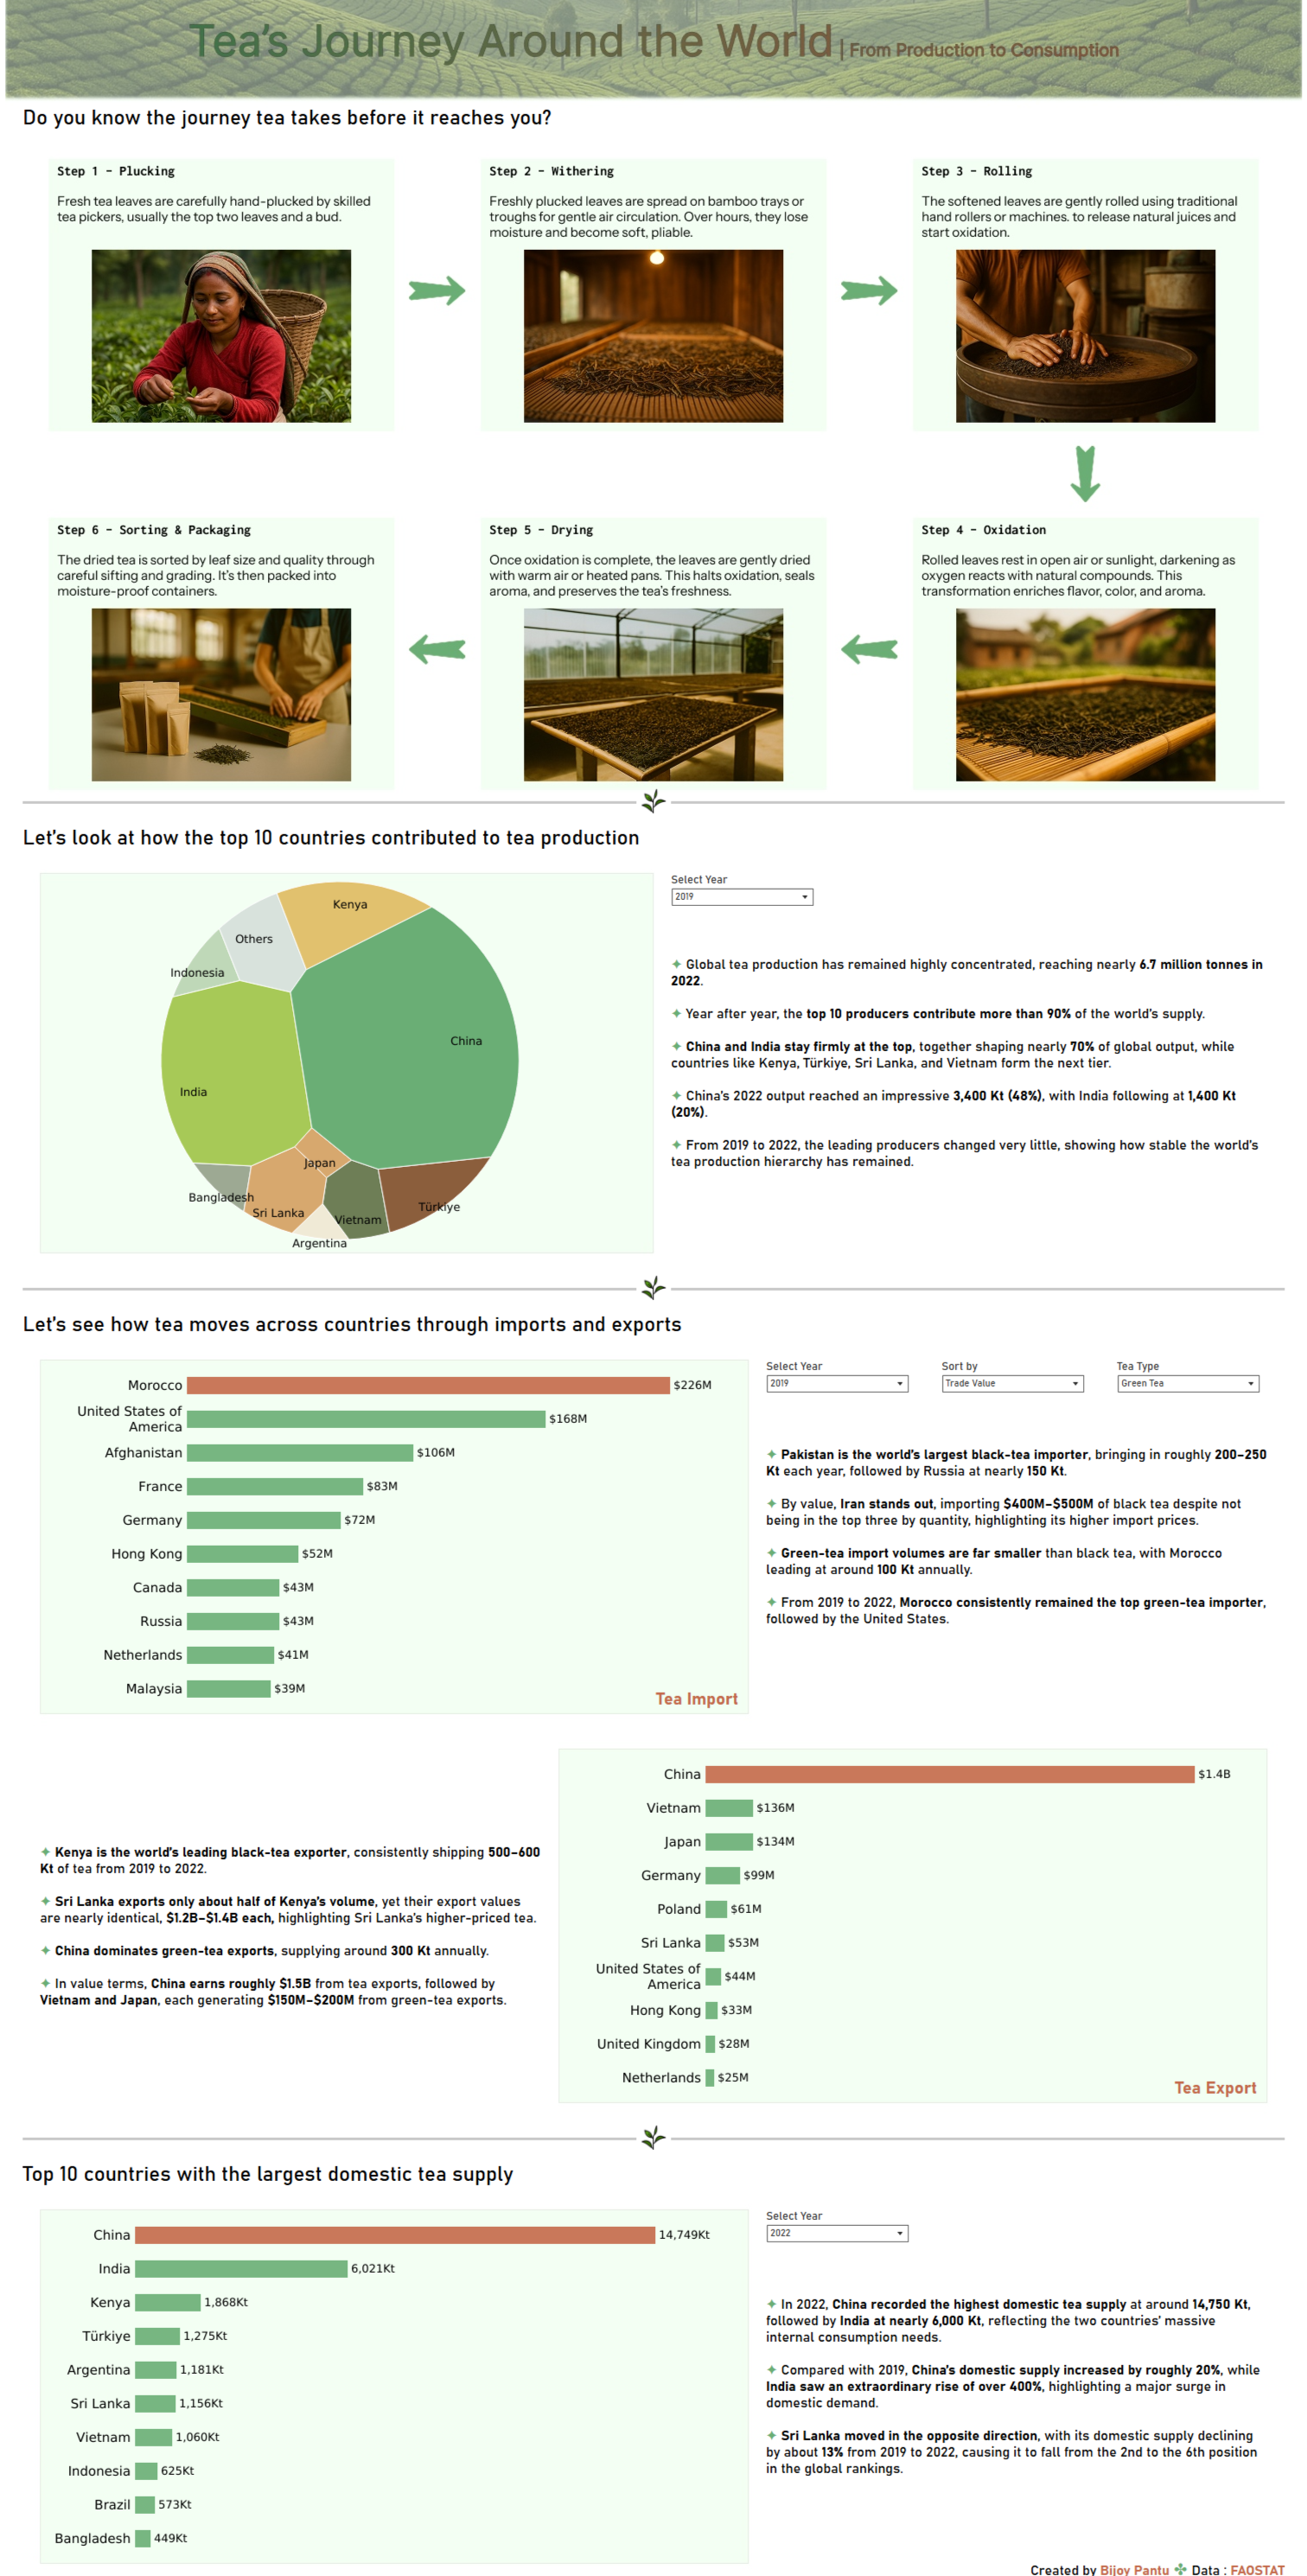

The page's visual inventory and layout, read from the dashboard file:
{"tool":"tableau","page":{"name":"tea's journey","canvas":[1500,3000],"ordinal":0},"visuals":[{"type":"image","param":"Image/Background.png","box":[0,0,1500,3000]},{"type":"blank","box":[20,0,1460,100]},{"type":"text","box":[20,110,1460,50]},{"type":"blank","box":[20,160,487,375]},{"type":"blank","box":[507,160,487,375]},{"type":"blank","box":[994,160,486,375]},{"type":"blank","box":[20,535,487,375]},{"type":"blank","box":[507,535,487,375]},{"type":"blank","box":[994,535,486,375]},{"type":"image","param":"Image/tea_leaf.png","box":[735,915,30,30]},{"type":"blank","box":[20,930,730,3]},{"type":"blank","box":[750,930,730,3]},{"type":"text","box":[20,953,1460,40]},{"type":"worksheet","title":"Production Vornoi","mark":"Automatic","box":[20,993,750,480]},{"type":"blank","box":[770,993,710,480]},{"type":"filter","title":"Production Vornoi","param":"[federated.12dqtg81vs3vxj0zk7q770y39avz].[none:year (production_vornoi.csv):ok]","box":[770,1013,166,45]},{"type":"text","box":[770,1098,690,270]},{"type":"image","param":"Image/tea_leaf.png","box":[735,1478,30,30]},{"type":"blank","box":[20,1493,730,3]},{"type":"blank","box":[750,1493,730,3]},{"type":"text","box":[20,1516,1460,40]},{"type":"worksheet","title":"Import","mark":"Bar","rows":["Country (Tea_Trade_2019_2022.csv)"],"cols":["Calculation_1536571901955006474"],"box":[20,1556,860,450]},{"type":"blank","box":[880,1556,600,450]},{"type":"parameter","param":"[Parameters].[Parameter 1]","box":[880,1576,165.6,45]},{"type":"blank","box":[1045.6,1576,37.6,45]},{"type":"parameter","param":"[Parameters].[Parameter 2]","box":[1083.2,1576,165.6,45]},{"type":"blank","box":[1248.8,1576,37.6,45]},{"type":"parameter","param":"[Parameters].[Parameter 3]","box":[1286.4,1576,165.6,45]},{"type":"text","box":[880,1666,580,230]},{"type":"text","box":[742,1954,117,30]},{"type":"blank","box":[20,2006,600,450]},{"type":"worksheet","title":"Export","mark":"Bar","rows":["Country (Tea_Trade_2019_2022.csv)"],"cols":["Calculation_1536571901955006474"],"box":[620,2006,860,450]},{"type":"text","box":[40,2101,580,260]},{"type":"text","box":[1342,2404,117,30]},{"type":"image","param":"Image/tea_leaf.png","box":[735,2461,30,30]},{"type":"blank","box":[20,2476,730,3]},{"type":"blank","box":[750,2476,730,3]},{"type":"text","box":[20,2499,1460,40]},{"type":"worksheet","title":"consumption","mark":"Bar","rows":["Area"],"cols":["Value (domestic_supply.csv)"],"box":[20,2539,860,450]},{"type":"blank","box":[880,2539,600,450]},{"type":"filter","title":"consumption","param":"[federated.12dqtg81vs3vxj0zk7q770y39avz].[none:Year (domestic_supply.csv):ok]","box":[880,2559,166,45]},{"type":"text","box":[880,2649,580,230]},{"type":"text","box":[1139,2960,341,30]}]}

Visuals, with their boxes in screenshot pixels (x1, y1, x2, y2), scaled from the page's 1500x3000 canvas onto the 1307x2576 screenshot:
image: bbox=[0, 0, 1306, 2575]
blank: bbox=[17, 0, 1290, 86]
text: bbox=[17, 94, 1290, 137]
blank: bbox=[17, 137, 442, 459]
blank: bbox=[442, 137, 866, 459]
blank: bbox=[866, 137, 1290, 459]
blank: bbox=[17, 459, 442, 781]
blank: bbox=[442, 459, 866, 781]
blank: bbox=[866, 459, 1290, 781]
image: bbox=[641, 786, 666, 812]
blank: bbox=[17, 799, 653, 801]
blank: bbox=[653, 799, 1290, 801]
text: bbox=[17, 819, 1290, 852]
"Production Vornoi" worksheet: bbox=[17, 852, 671, 1265]
blank: bbox=[671, 852, 1290, 1265]
"Production Vornoi" filter: bbox=[671, 870, 815, 909]
text: bbox=[671, 943, 1272, 1175]
image: bbox=[641, 1269, 666, 1295]
blank: bbox=[17, 1282, 653, 1285]
blank: bbox=[653, 1282, 1290, 1285]
text: bbox=[17, 1302, 1290, 1336]
"Import" worksheet (Bar marks): bbox=[17, 1336, 767, 1723]
blank: bbox=[767, 1336, 1290, 1723]
parameter: bbox=[767, 1353, 911, 1392]
blank: bbox=[911, 1353, 944, 1392]
parameter: bbox=[944, 1353, 1088, 1392]
blank: bbox=[1088, 1353, 1121, 1392]
parameter: bbox=[1121, 1353, 1266, 1392]
text: bbox=[767, 1431, 1272, 1628]
text: bbox=[647, 1678, 749, 1704]
blank: bbox=[17, 1723, 540, 2109]
"Export" worksheet (Bar marks): bbox=[540, 1723, 1290, 2109]
text: bbox=[35, 1804, 540, 2027]
text: bbox=[1170, 2064, 1272, 2090]
image: bbox=[641, 2114, 666, 2139]
blank: bbox=[17, 2126, 653, 2128]
blank: bbox=[653, 2126, 1290, 2128]
text: bbox=[17, 2146, 1290, 2180]
"consumption" worksheet (Bar marks): bbox=[17, 2180, 767, 2566]
blank: bbox=[767, 2180, 1290, 2566]
"consumption" filter: bbox=[767, 2197, 911, 2236]
text: bbox=[767, 2274, 1272, 2472]
text: bbox=[992, 2541, 1290, 2567]
